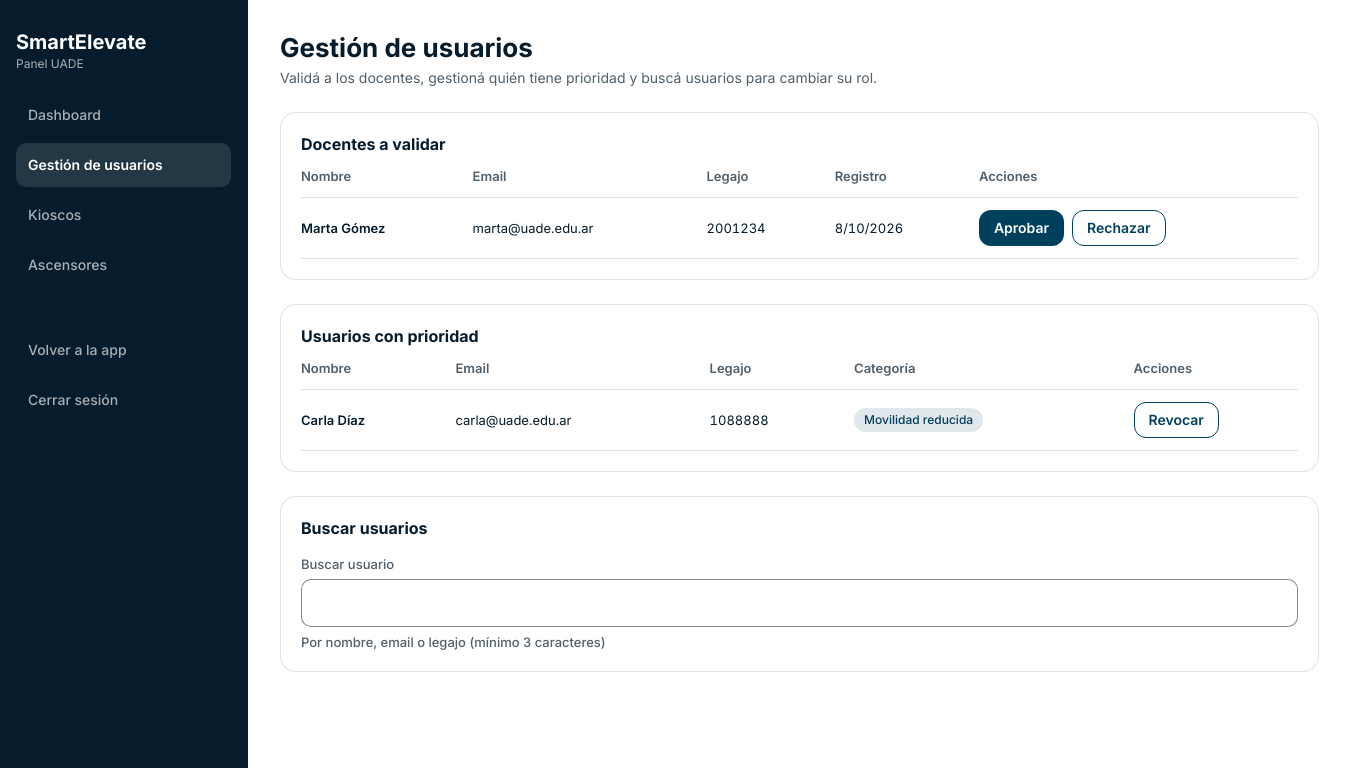
it: AdminPriorityPage › revocar confirma y deja la lista vacía
Click the button with aria-label "Revocar a Carla Díaz".
click(1176, 420)  # box [1134,402,1219,438]
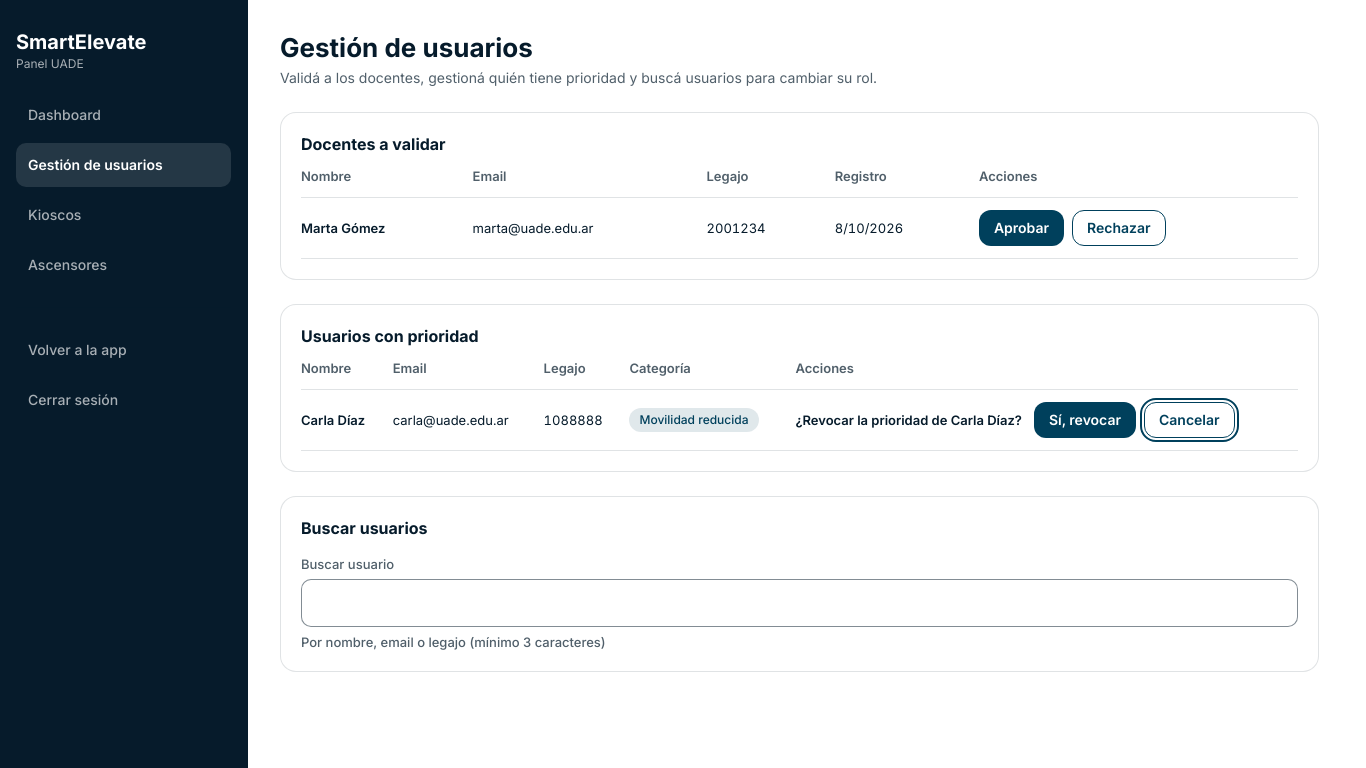
Click the button "Sí, revocar".
click(1085, 420)  # box [1034,402,1136,438]
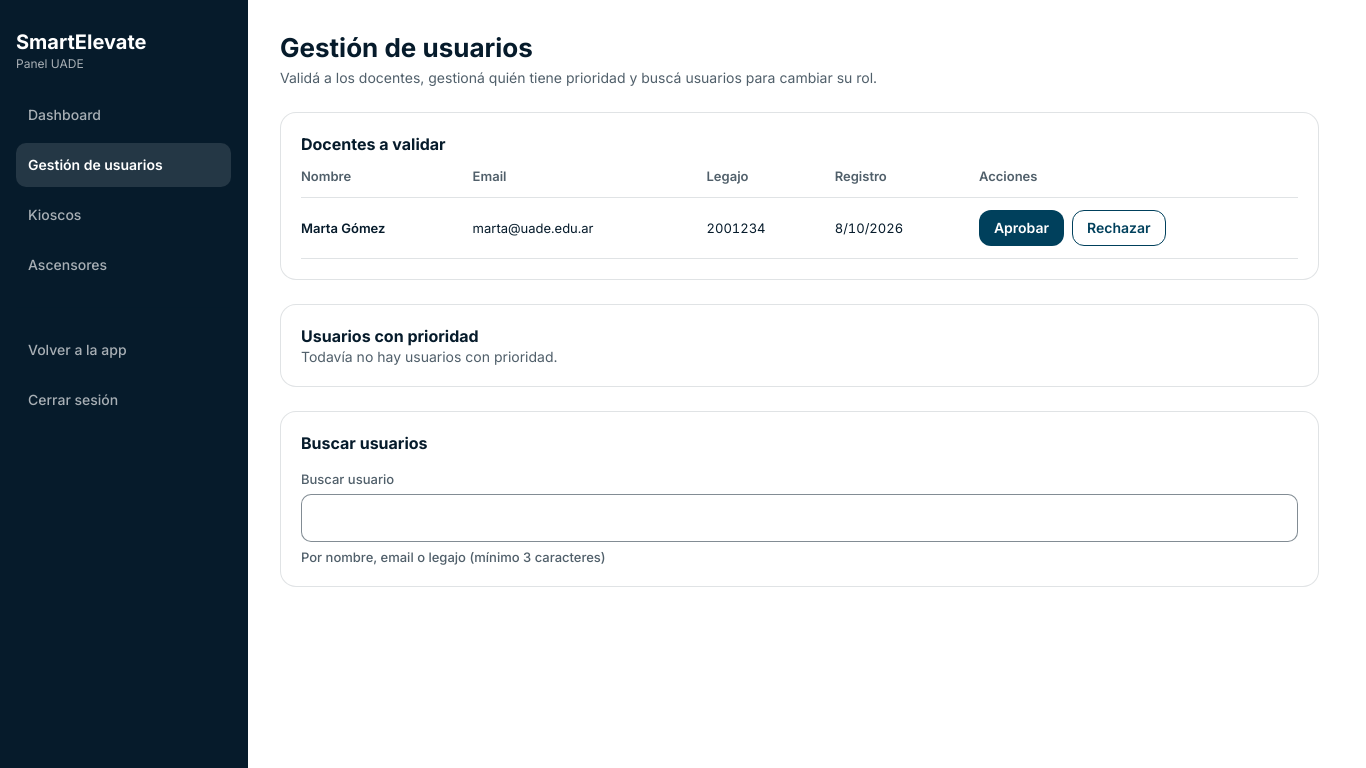
Check: the text "Todavía no hay usuarios con prioridad." is shown, box [301,348,558,365]
